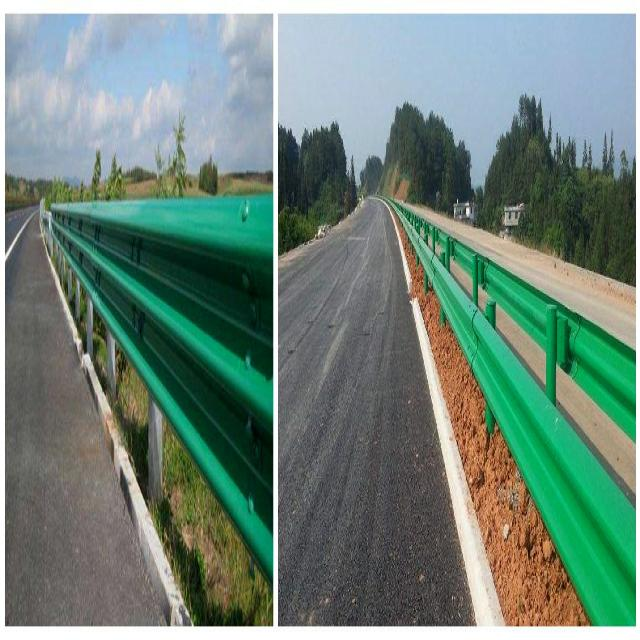Guard rail: (391, 206, 635, 624), (51, 194, 274, 580)
